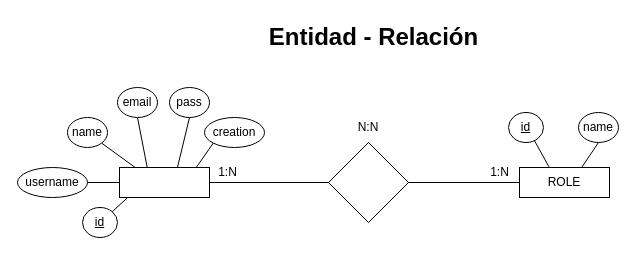
Some shapes in this 636 by 255 pixel diagram are drawn without their labels. The shapes that lost their labels are listed below. From the top down, each one's centre as x and y in pixels, then its label:
pixel 164 182: USER
pixel 368 182: TIENE
